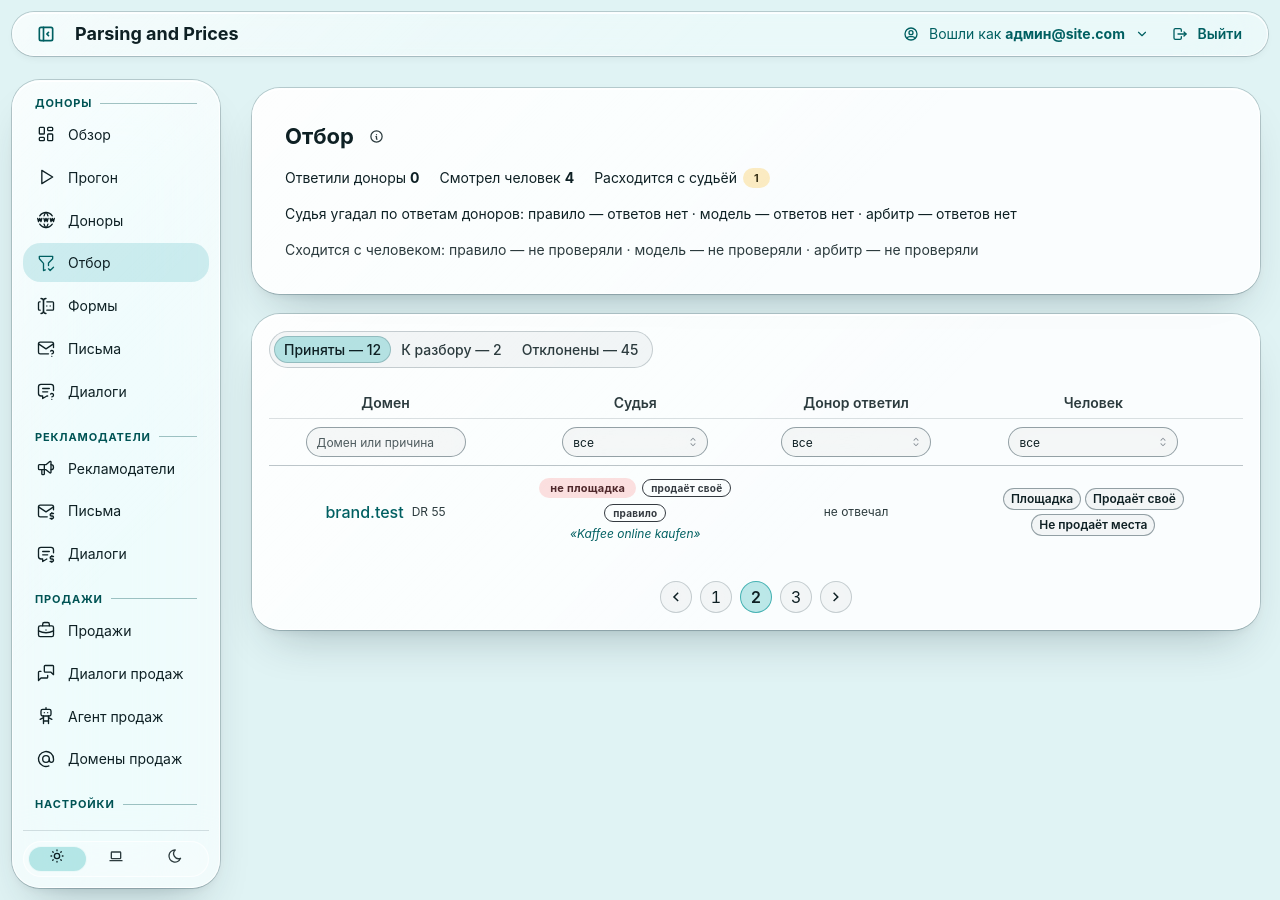
Test: отбор: страницы › смена вкладки — с первой страницы
Expected: the link "brand.test" is shown, [326,500,404,525]
Click the text "Отклонены — 45". click: point(580, 350)
box: [522,339,638,360]
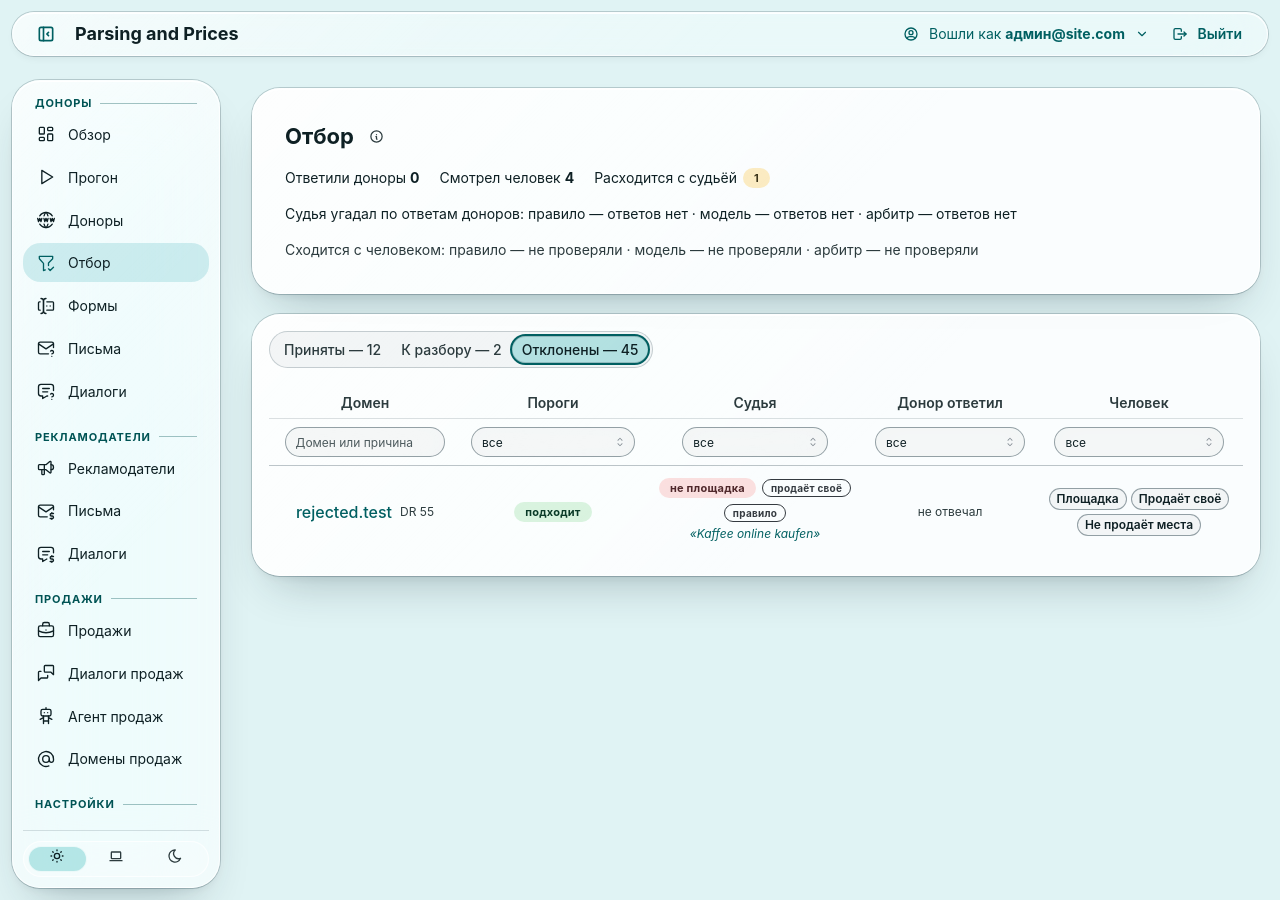
Expected: the link "rejected.test" is shown, [296,500,392,525]
